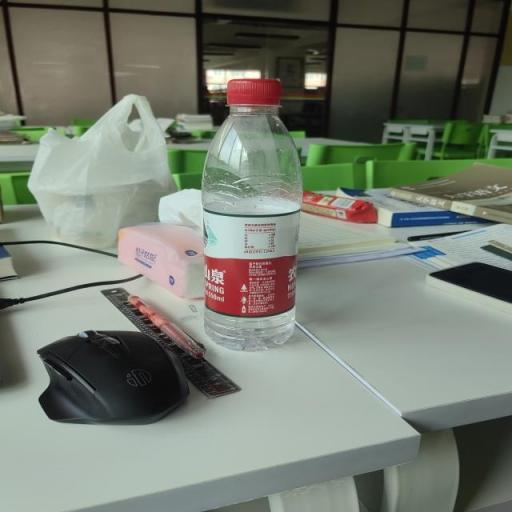plastic: (200, 77, 303, 354)
